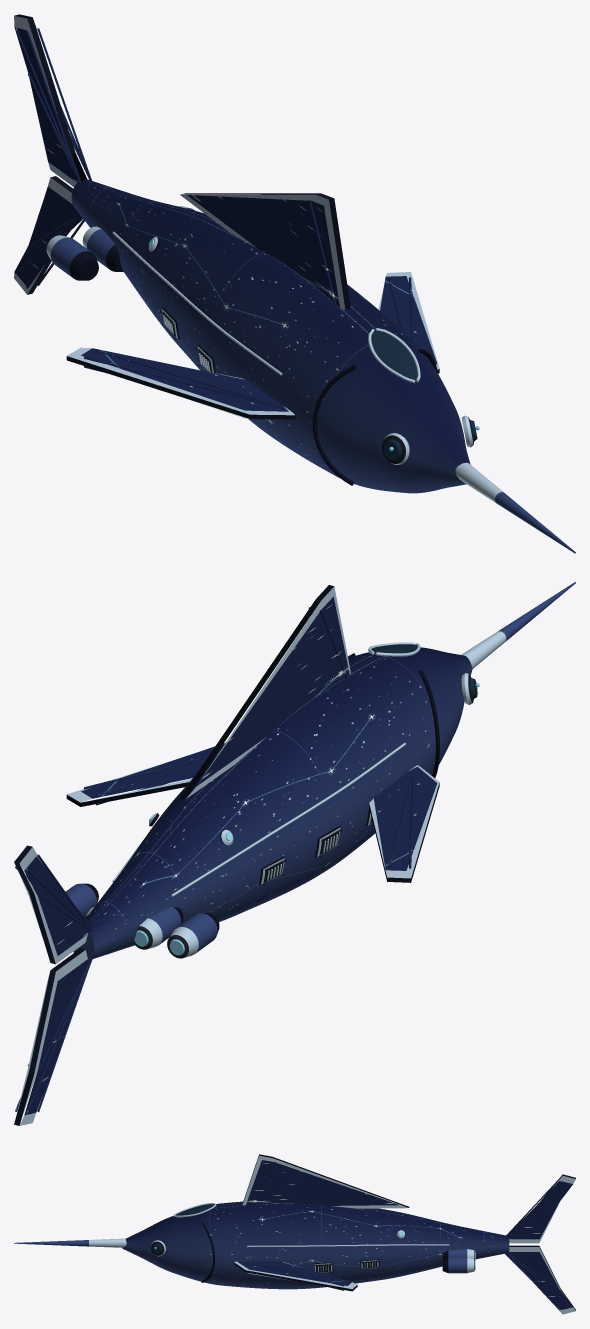
3 views of the same model, one above another, from view 1: azimuth 30°, elevation 25°; view 2: azimuth 150°, elevation 25°; view 3: azimuth 270°, elevation 25° (orthographic). The views are drawn at different scales.
Visible parts, largest first — view 1: marlin_hull; view 2: marlin_hull; view 3: marlin_hull.
Part boxes in pixels (x1=…): marlin_hull: x1=14, y1=14, x2=575, y2=553; marlin_hull: x1=14, y1=582, x2=575, y2=1125; marlin_hull: x1=14, y1=1154, x2=575, y2=1314.
Bounding box in the file's own units: 92.3 × 80.93 × 259.
1 material, 1 textured.
